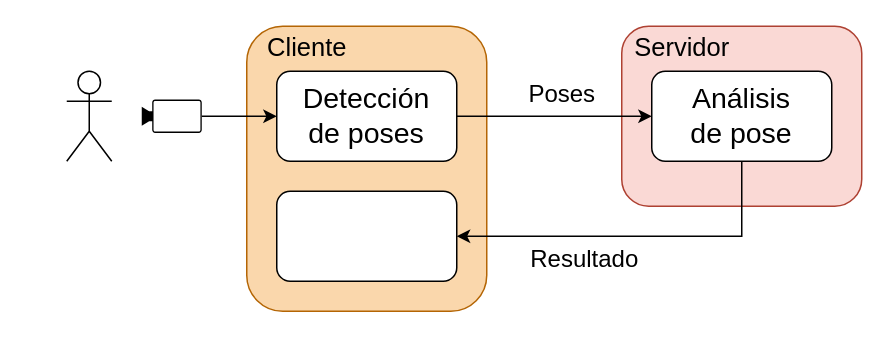
Some shapes in this 888 by 338 pixel diagram are drawn without their labels. The box of each missing label's shape, as (x1, y1, x2, y2) in pixels:
Esgrimista: (65, 70, 112, 161)
Feedback: (275, 190, 457, 281)
